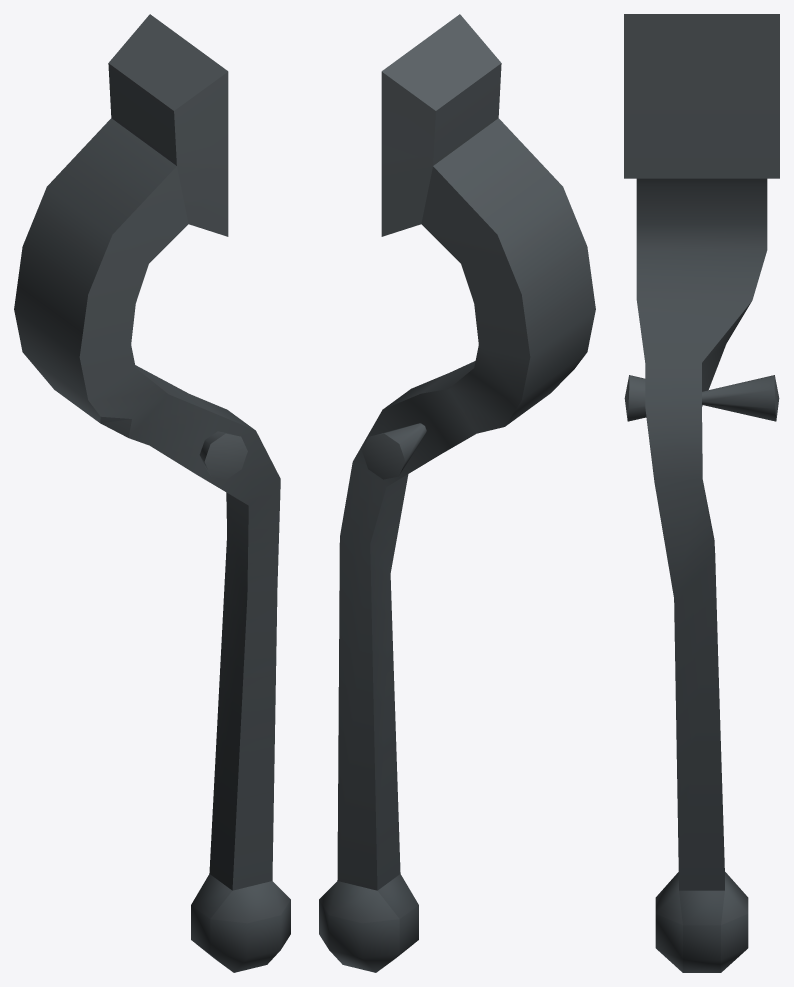
The model's file is tongs.obj.
3 views of the same model, side by side, from view 1: azimuth 30°, elevation 25°; view 2: azimuth 150°, elevation 25°; view 3: azimuth 270°, elevation 25° (orthographic).
Parts seen in each view (by area): view 1: tongs; view 2: tongs; view 3: tongs.
Boxes of the visible parts, x1=… form: tongs: x1=14, y1=14, x2=290, y2=972; tongs: x1=319, y1=14, x2=595, y2=972; tongs: x1=624, y1=14, x2=779, y2=972.
Size of the model in its own units: 0.3388 by 1.29 by 0.1964.
Materials: 1 (1 with a texture image).
